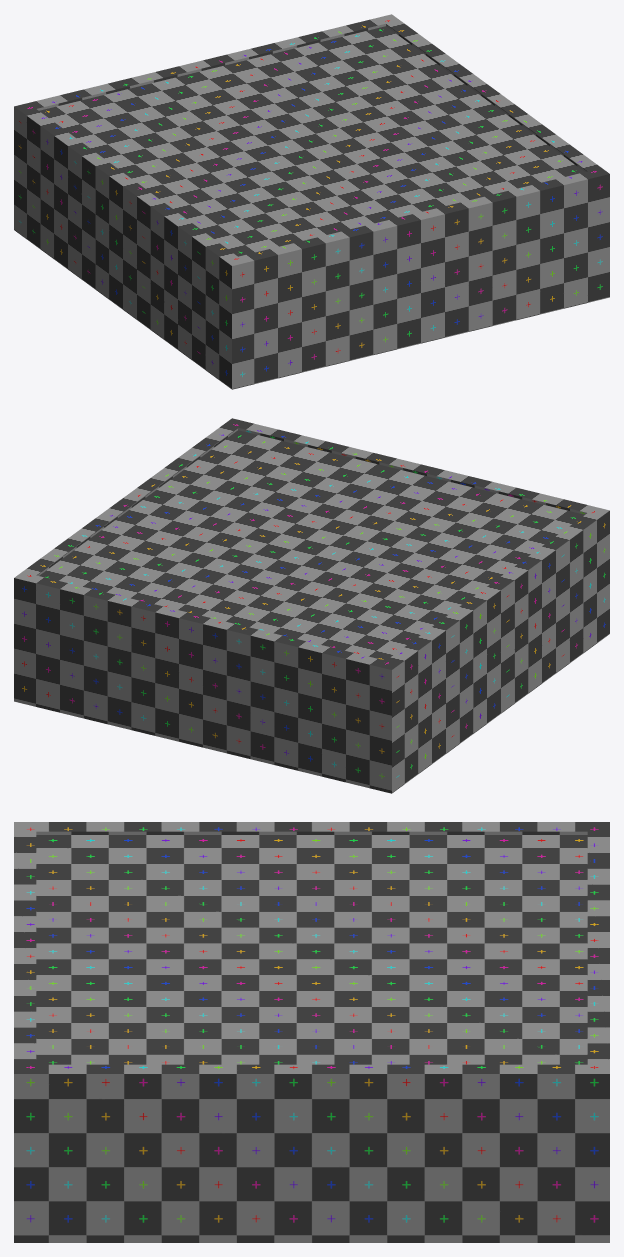
The model's file is block-default.glb.
3 renders of one model, top to bottom at view 1: azimuth 30°, elevation 25°; view 2: azimuth 150°, elevation 25°; view 3: azimuth 270°, elevation 25°, orthographic. The views are drawn at different scales.
Parts seen in each view (by area): view 1: SimpleBlock; view 2: SimpleBlock; view 3: SimpleBlock.
Part boxes in pixels (x1,y1,x2,y2): SimpleBlock: (14, 14, 609, 389); SimpleBlock: (14, 418, 609, 793); SimpleBlock: (14, 822, 609, 1242).
Bounding box in the file's own units: 32 × 10 × 32.
Materials: 1 (1 with a texture image).
